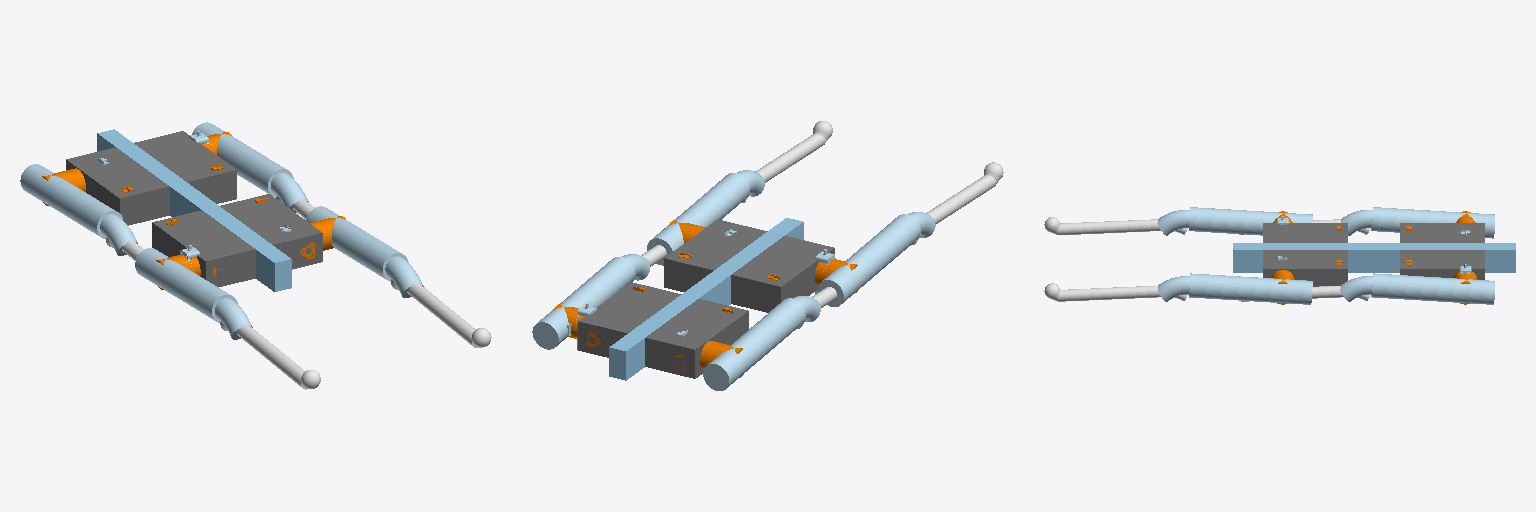
--- What the picture shows (computed from the rendered views, not written in the file) ---
Views: 3 orthographic renders of the robot side by side, from view 1: azimuth 30°, elevation 25°; view 2: azimuth 150°, elevation 25°; view 3: azimuth 270°, elevation 25°.
Model quadrupedCollision with 25 links and 24 joints (24 revolute), rooted at part_1, posed all joints at 0.
Visible links, largest first — view 1: part_1, femurmergecoll, femurmergecoll_2, femurmergecolr_2, femurmergecolr, tibiamergecolr_2, tibiamergecoll_2; view 2: part_1, femurmergecoll, femurmergecoll_2, femurmergecolr, femurmergecolr_2, tibiamergecolr_2, tibiamergecoll_2; view 3: part_1, femurmergecolr_2, femurmergecolr, femurmergecoll_2, femurmergecoll, tibiamergecolr_2, tibiamergecoll_2.
Link boxes in pixels (left/top/right/bottom): part_1: left=66, top=129, right=322, bottom=291; femurmergecoll: left=20, top=164, right=137, bottom=255; femurmergecoll_2: left=135, top=248, right=252, bottom=339; femurmergecolr_2: left=306, top=206, right=423, bottom=297; femurmergecolr: left=192, top=122, right=308, bottom=212; tibiamergecolr_2: left=391, top=279, right=491, bottom=347; tibiamergecoll_2: left=220, top=321, right=320, bottom=389; part_1: left=578, top=218, right=834, bottom=380; femurmergecoll: left=703, top=296, right=820, bottom=390; femurmergecoll_2: left=818, top=212, right=935, bottom=306; femurmergecolr: left=532, top=254, right=649, bottom=349; femurmergecolr_2: left=647, top=170, right=764, bottom=265; tibiamergecolr_2: left=742, top=121, right=832, bottom=202; tibiamergecoll_2: left=912, top=162, right=1003, bottom=244; part_1: left=1233, top=223, right=1515, bottom=286; femurmergecolr_2: left=1158, top=273, right=1312, bottom=304; femurmergecolr: left=1340, top=273, right=1494, bottom=304; femurmergecoll_2: left=1157, top=207, right=1312, bottom=235; femurmergecoll: left=1341, top=207, right=1494, bottom=238; tibiamergecolr_2: left=1044, top=283, right=1187, bottom=301; tibiamergecoll_2: left=1044, top=217, right=1187, bottom=234.
Size in the robot's own frame: 0.577 by 1.5 by 0.1263 metres.
Meshes: 15 distinct files referenced, 25 mesh visuals loaded (12 binary STL); not drawn: 8 (reference not matched to a file when rendering).

URDF robot description (quadrupedCollision):
<?xml version="1.0" ?>
<!-- Generated using onshape-to-robot -->
<!-- Onshape https://cad.onshape.com/documents/15c938082851fbd4bacdce98/w/82abc59e7a8e49fa89bdf240/e/b811f833887c1f15af931ea2 -->
<robot name="quadrupedCollision">
  <!-- Link part_1 -->
  <link name="part_1">
    <inertial>
      <origin xyz="5.94847e-18 0 0.000234013" rpy="0 0 0"/>
      <mass value="9.332"/>
      <inertia ixx="0.355577" ixy="-1.69608e-08" ixz="9.09713e-18" iyy="0.135954" iyz="5.82759e-19" izz="0.4868"/>
    </inertial>
    <!-- Part bodysectioncola -->
    <visual>
      <origin xyz="-0.181 -0.291 4.6659e-16" rpy="-7.63701e-16 3.38483e-16 -1.5708"/>
      <geometry>
        <mesh filename="package://assets/bodysectioncola.stl"/>
      </geometry>
      <material name="bodysectioncola_material">
        <color rgba="0.498039 0.498039 0.498039 1.0"/>
      </material>
    </visual>
    <collision>
      <origin xyz="-0.181 -0.291 4.6659e-16" rpy="-7.63701e-16 3.38483e-16 -1.5708"/>
      <geometry>
        <mesh filename="package://assets/bodysectioncola.stl"/>
      </geometry>
    </collision>
    <!-- Part bodysectioncollb -->
    <visual>
      <origin xyz="0.131 0.291 3.26128e-16" rpy="-3.07902e-48 -2.39492e-31 1.5708"/>
      <geometry>
        <mesh filename="package://assets/bodysectioncollb.stl"/>
      </geometry>
      <material name="bodysectioncollb_material">
        <color rgba="0.498039 0.498039 0.498039 1.0"/>
      </material>
    </visual>
    <collision>
      <origin xyz="0.131 0.291 3.26128e-16" rpy="-3.07902e-48 -2.39492e-31 1.5708"/>
      <geometry>
        <mesh filename="package://assets/bodysectioncollb.stl"/>
      </geometry>
    </collision>
    <!-- Part bodysectiona -->
    <visual>
      <origin xyz="0.181 0.291 4.26742e-16" rpy="-6.03533e-16 -5.41668e-33 1.5708"/>
      <geometry>
        <mesh filename="package://assets/bodysectiona.stl"/>
      </geometry>
      <material name="bodysectiona_material">
        <color rgba="0.972549 0.529412 0.00392157 1.0"/>
      </material>
    </visual>
    <collision>
      <origin xyz="0.181 0.291 4.26742e-16" rpy="-6.03533e-16 -5.41668e-33 1.5708"/>
      <geometry>
        <mesh filename="package://assets/bodysectiona.stl"/>
      </geometry>
    </collision>
    <!-- Part part_1 -->
    <visual>
      <origin xyz="0 0 0" rpy="0 -0 0"/>
      <geometry>
        <mesh filename="package://assets/part_1.stl"/>
      </geometry>
      <material name="part_1_material">
        <color rgba="0.615686 0.811765 0.929412 1.0"/>
      </material>
    </visual>
    <collision>
      <origin xyz="0 0 0" rpy="0 -0 0"/>
      <geometry>
        <mesh filename="package://assets/part_1.stl"/>
      </geometry>
    </collision>
    <!-- Part bodysectionb -->
    <visual>
      <origin xyz="-0.131 -0.291 4.54498e-16" rpy="-7.77005e-16 5.41668e-33 -1.5708"/>
      <geometry>
        <mesh filename="package://assets/bodysectionb.stl"/>
      </geometry>
      <material name="bodysectionb_material">
        <color rgba="0.972549 0.529412 0.00392157 1.0"/>
      </material>
    </visual>
    <collision>
      <origin xyz="-0.131 -0.291 4.54498e-16" rpy="-7.77005e-16 5.41668e-33 -1.5708"/>
      <geometry>
        <mesh filename="package://assets/bodysectionb.stl"/>
      </geometry>
    </collision>
    <!-- Part bodysectioncola_2 -->
    <visual>
      <origin xyz="0.181 0.291 3.26128e-16" rpy="-3.07902e-48 -2.39492e-31 1.5708"/>
      <geometry>
        <mesh filename="package://assets/bodysectioncola.stl"/>
      </geometry>
      <material name="bodysectioncola_2_material">
        <color rgba="0.498039 0.498039 0.498039 1.0"/>
      </material>
    </visual>
    <collision>
      <origin xyz="0.181 0.291 3.26128e-16" rpy="-3.07902e-48 -2.39492e-31 1.5708"/>
      <geometry>
        <mesh filename="package://assets/bodysectioncola.stl"/>
      </geometry>
    </collision>
    <!-- Part bodysectionb_2 -->
    <visual>
      <origin xyz="0.131 0.291 4.26742e-16" rpy="-6.03533e-16 -5.41668e-33 1.5708"/>
      <geometry>
        <mesh filename="package://assets/bodysectionb.stl"/>
      </geometry>
      <material name="bodysectionb_2_material">
        <color rgba="0.972549 0.529412 0.00392157 1.0"/>
      </material>
    </visual>
    <collision>
      <origin xyz="0.131 0.291 4.26742e-16" rpy="-6.03533e-16 -5.41668e-33 1.5708"/>
      <geometry>
        <mesh filename="package://assets/bodysectionb.stl"/>
      </geometry>
    </collision>
    <!-- Part bodysectioncollb_2 -->
    <visual>
      <origin xyz="-0.131 -0.291 4.6626e-16" rpy="-7.61586e-16 2.2746e-16 -1.5708"/>
      <geometry>
        <mesh filename="package://assets/bodysectioncollb.stl"/>
      </geometry>
      <material name="bodysectioncollb_2_material">
        <color rgba="0.498039 0.498039 0.498039 1.0"/>
      </material>
    </visual>
    <collision>
      <origin xyz="-0.131 -0.291 4.6626e-16" rpy="-7.61586e-16 2.2746e-16 -1.5708"/>
      <geometry>
        <mesh filename="package://assets/bodysectioncollb.stl"/>
      </geometry>
    </collision>
    <!-- Part bodysectiona_2 -->
    <visual>
      <origin xyz="-0.181 -0.291 4.54498e-16" rpy="-7.77005e-16 5.41668e-33 -1.5708"/>
      <geometry>
        <mesh filename="package://assets/bodysectiona.stl"/>
      </geometry>
      <material name="bodysectiona_2_material">
        <color rgba="0.972549 0.529412 0.00392157 1.0"/>
      </material>
    </visual>
    <collision>
      <origin xyz="-0.181 -0.291 4.54498e-16" rpy="-7.77005e-16 5.41668e-33 -1.5708"/>
      <geometry>
        <mesh filename="package://assets/bodysectiona.stl"/>
      </geometry>
    </collision>
  </link>
  <!-- Link coxamergel -->
  <link name="coxamergel">
    <inertial>
      <origin xyz="-0.0100851 -0.000391481 -0.0598052" rpy="0 0 0"/>
      <mass value="1.5"/>
      <inertia ixx="0.00120555" ixy="-1.25099e-05" ixz="-5.55819e-05" iyy="0.00233404" iyz="-2.2868e-06" izz="0.00180944"/>
    </inertial>
    <!-- Part coxamergel -->
    <visual>
      <origin xyz="0.05 -5.73847e-16 -0.0635" rpy="1.5708 1.5708 0"/>
      <geometry>
        <mesh filename="package://assets/coxamergel.stl"/>
      </geometry>
      <material name="coxamergel_material">
        <color rgba="0.768627 0.886275 0.952941 1.0"/>
      </material>
    </visual>
    <collision>
      <origin xyz="0.05 -5.73847e-16 -0.0635" rpy="1.5708 1.5708 0"/>
      <geometry>
        <mesh filename="package://assets/coxamergel.stl"/>
      </geometry>
    </collision>
  </link>
  <!-- Link femurmergel -->
  <link name="femurmergel">
    <inertial>
      <origin xyz="0.0751519 0.00032822 -0.0593829" rpy="0 0 0"/>
      <mass value="1.952"/>
      <inertia ixx="0.00139318" ixy="-0.000264556" ixz="0.000687157" iyy="0.0276116" iyz="2.92843e-06" izz="0.0271576"/>
    </inertial>
    <!-- Part femurmergel -->
    <visual>
      <origin xyz="-1.66533e-16 -2.70617e-16 0.005" rpy="-1.5708 -1.80753e-16 2.37235"/>
      <geometry>
        <mesh filename="package://assets/femurmergel.stl"/>
      </geometry>
      <material name="femurmergel_material">
        <color rgba="0.917647 0.917647 0.917647 1.0"/>
      </material>
    </visual>
    <collision>
      <origin xyz="-1.66533e-16 -2.70617e-16 0.005" rpy="-1.5708 -1.80753e-16 2.37235"/>
      <geometry>
        <mesh filename="package://assets/femurmergel.stl"/>
      </geometry>
    </collision>
  </link>
  <!-- Link tibiamerger -->
  <link name="tibiamerger">
    <inertial>
      <origin xyz="0.201195 0.00272963 -0.0159512" rpy="0 0 0"/>
      <mass value="0.22"/>
      <inertia ixx="5.51361e-05" ixy="-0.000152057" ixz="1.05475e-09" iyy="0.00533523" iyz="2.98345e-08" izz="0.00534053"/>
    </inertial>
    <!-- Part tibiamerger -->
    <visual>
      <origin xyz="-0.0160231 -0.370248 0.053" rpy="1.5708 4.16327e-14 -0.77729"/>
      <geometry>
        <mesh filename="package://assets/tibiamerger.stl"/>
      </geometry>
      <material name="tibiamerger_material">
        <color rgba="0.231373 0.380392 0.705882 1.0"/>
      </material>
    </visual>
    <collision>
      <origin xyz="-0.0160231 -0.370248 0.053" rpy="1.5708 4.16327e-14 -0.77729"/>
      <geometry>
        <mesh filename="package://assets/tibiamerger.stl"/>
      </geometry>
    </collision>
  </link>
  <!-- Joint from femurmergel to tibiamerger -->
  <joint name="FL_KneeFE" type="revolute">
    <origin xyz="0.36975 0.025 -0.08" rpy="3.14159 -3.71545e-17 0.115841"/>
    <parent link="femurmergel"/>
    <child link="tibiamerger"/>
    <axis xyz="0 0 1"/>
    <limit effort="10" velocity="10" lower="-0.450392" upper="2.72142"/>
  </joint>
  <!-- Joint from coxamergel to femurmergel -->
  <joint name="FL_HipFE" type="revolute">
    <origin xyz="0.055 -6.48425e-15 -0.0635" rpy="1.5708 -1.50329 -1.5708"/>
    <parent link="coxamergel"/>
    <child link="femurmergel"/>
    <axis xyz="0 0 1"/>
    <limit effort="10" velocity="10" lower="-0.456088" upper="3.7327"/>
  </joint>
  <!-- Joint from part_1 to coxamergel -->
  <joint name="FL_HipAA" type="revolute">
    <origin xyz="-0.131 0.2275 4.72203e-17" rpy="-1.5708 6.03533e-16 -3.14159"/>
    <parent link="part_1"/>
    <child link="coxamergel"/>
    <axis xyz="0 0 1"/>
    <limit effort="10" velocity="10" lower="-1.0472" upper="1.0472"/>
  </joint>
  <!-- Link coxamerger -->
  <link name="coxamerger">
    <inertial>
      <origin xyz="0.0100851 -0.000391481 -0.0598052" rpy="0 0 0"/>
      <mass value="1.5"/>
      <inertia ixx="0.00120555" ixy="1.25099e-05" ixz="5.55819e-05" iyy="0.00233404" iyz="-2.28685e-06" izz="0.00180944"/>
    </inertial>
    <!-- Part coxamerger -->
    <visual>
      <origin xyz="-0.05 -5.73847e-16 -0.0635" rpy="1.5708 1.5708 0"/>
      <geometry>
        <mesh filename="package://assets/coxamerger.stl"/>
      </geometry>
      <material name="coxamerger_material">
        <color rgba="0.768627 0.886275 0.952941 1.0"/>
      </material>
    </visual>
    <collision>
      <origin xyz="-0.05 -5.73847e-16 -0.0635" rpy="1.5708 1.5708 0"/>
      <geometry>
        <mesh filename="package://assets/coxamerger.stl"/>
      </geometry>
    </collision>
  </link>
  <!-- Link femurmerger -->
  <link name="femurmerger">
    <inertial>
      <origin xyz="0.0751519 -0.00032822 -0.0593829" rpy="0 0 0"/>
      <mass value="1.952"/>
      <inertia ixx="0.00139318" ixy="0.000264557" ixz="0.000687157" iyy="0.0276116" iyz="-2.92829e-06" izz="0.0271576"/>
    </inertial>
    <!-- Part femurmerger -->
    <visual>
      <origin xyz="-2.77556e-16 2.70617e-16 0.005" rpy="1.5708 -1.80753e-16 -2.37235"/>
      <geometry>
        <mesh filename="package://assets/femurmerger.stl"/>
      </geometry>
      <material name="femurmerger_material">
        <color rgba="0.917647 0.917647 0.917647 1.0"/>
      </material>
    </visual>
    <collision>
      <origin xyz="-2.77556e-16 2.70617e-16 0.005" rpy="1.5708 -1.80753e-16 -2.37235"/>
      <geometry>
        <mesh filename="package://assets/femurmerger.stl"/>
      </geometry>
    </collision>
  </link>
  <!-- Link tibiamerger_2 -->
  <link name="tibiamerger_2">
    <inertial>
      <origin xyz="0.201195 -0.00272963 -0.0160488" rpy="0 0 0"/>
      <mass value="0.22"/>
      <inertia ixx="5.51361e-05" ixy="0.000152057" ixz="-1.05475e-09" iyy="0.00533523" iyz="2.98345e-08" izz="0.00534053"/>
    </inertial>
    <!-- Part tibiamerger_2 -->
    <visual>
      <origin xyz="-0.0160231 0.370248 -0.085" rpy="-1.5708 -4.16482e-14 0.77729"/>
      <geometry>
        <mesh filename="package://assets/tibiamerger.stl"/>
      </geometry>
      <material name="tibiamerger_2_material">
        <color rgba="0.231373 0.380392 0.705882 1.0"/>
      </material>
    </visual>
    <collision>
      <origin xyz="-0.0160231 0.370248 -0.085" rpy="-1.5708 -4.16482e-14 0.77729"/>
      <geometry>
        <mesh filename="package://assets/tibiamerger.stl"/>
      </geometry>
    </collision>
  </link>
  <!-- Joint from femurmerger to tibiamerger_2 -->
  <joint name="FR_KneeFE" type="revolute">
    <origin xyz="0.36975 -0.025 -0.08" rpy="3.14159 -3.90028e-15 -0.115841"/>
    <parent link="femurmerger"/>
    <child link="tibiamerger_2"/>
    <axis xyz="0 0 1"/>
    <limit effort="10" velocity="10" lower="-2.72142" upper="0.450392"/>
  </joint>
  <!-- Joint from coxamerger to femurmerger -->
  <joint name="FR_HipFE" type="revolute">
    <origin xyz="-0.055 -6.53411e-15 -0.0635" rpy="-1.5708 -1.50329 -1.5708"/>
    <parent link="coxamerger"/>
    <child link="femurmerger"/>
    <axis xyz="0 0 1"/>
    <limit effort="10" velocity="10" lower="-3.7327" upper="0.456088"/>
  </joint>
  <!-- Joint from part_1 to coxamerger -->
  <joint name="FR_HipAA" type="revolute">
    <origin xyz="0.131 0.2275 2.8804e-17" rpy="-1.5708 -1.11228e-13 3.14159"/>
    <parent link="part_1"/>
    <child link="coxamerger"/>
    <axis xyz="0 0 1"/>
    <limit effort="10" velocity="10" lower="-1.0472" upper="1.0472"/>
  </joint>
  <!-- Link coxamerger_2 -->
  <link name="coxamerger_2">
    <inertial>
      <origin xyz="0.0100851 -0.000391481 -0.0598052" rpy="0 0 0"/>
      <mass value="1.5"/>
      <inertia ixx="0.00120555" ixy="1.25099e-05" ixz="5.55819e-05" iyy="0.00233404" iyz="-2.28685e-06" izz="0.00180944"/>
    </inertial>
    <!-- Part coxamerger_2 -->
    <visual>
      <origin xyz="-0.05 -5.73847e-16 -0.0635" rpy="1.5708 1.5708 0"/>
      <geometry>
        <mesh filename="package://assets/coxamerger.stl"/>
      </geometry>
      <material name="coxamerger_2_material">
        <color rgba="0.768627 0.886275 0.952941 1.0"/>
      </material>
    </visual>
    <collision>
      <origin xyz="-0.05 -5.73847e-16 -0.0635" rpy="1.5708 1.5708 0"/>
      <geometry>
        <mesh filename="package://assets/coxamerger.stl"/>
      </geometry>
    </collision>
  </link>
  <!-- Link femurmergel_2 -->
  <link name="femurmergel_2">
    <inertial>
      <origin xyz="0.0751519 0.00032822 -0.0593829" rpy="0 0 0"/>
      <mass value="1.952"/>
      <inertia ixx="0.00139318" ixy="-0.000264556" ixz="0.000687157" iyy="0.0276116" iyz="2.92843e-06" izz="0.0271576"/>
    </inertial>
    <!-- Part femurmergel_2 -->
    <visual>
      <origin xyz="-2.77556e-16 -2.74086e-16 0.005" rpy="-1.5708 -1.80753e-16 2.37235"/>
      <geometry>
        <mesh filename="package://assets/femurmergel.stl"/>
      </geometry>
      <material name="femurmergel_2_material">
        <color rgba="0.917647 0.917647 0.917647 1.0"/>
      </material>
    </visual>
    <collision>
      <origin xyz="-2.77556e-16 -2.74086e-16 0.005" rpy="-1.5708 -1.80753e-16 2.37235"/>
      <geometry>
        <mesh filename="package://assets/femurmergel.stl"/>
      </geometry>
    </collision>
  </link>
  <!-- Link tibiamerger_3 -->
  <link name="tibiamerger_3">
    <inertial>
      <origin xyz="0.201195 0.00272963 -0.0159512" rpy="0 0 0"/>
      <mass value="0.22"/>
      <inertia ixx="5.51361e-05" ixy="-0.000152057" ixz="1.05475e-09" iyy="0.00533523" iyz="2.98345e-08" izz="0.00534053"/>
    </inertial>
    <!-- Part tibiamerger_3 -->
    <visual>
      <origin xyz="-0.0160231 -0.370248 0.053" rpy="1.5708 4.16327e-14 -0.77729"/>
      <geometry>
        <mesh filename="package://assets/tibiamerger.stl"/>
      </geometry>
      <material name="tibiamerger_3_material">
        <color rgba="0.231373 0.380392 0.705882 1.0"/>
      </material>
    </visual>
    <collision>
      <origin xyz="-0.0160231 -0.370248 0.053" rpy="1.5708 4.16327e-14 -0.77729"/>
      <geometry>
        <mesh filename="package://assets/tibiamerger.stl"/>
      </geometry>
    </collision>
  </link>
  <!-- Joint from femurmergel_2 to tibiamerger_3 -->
  <joint name="BL_KneeFE" type="revolute">
    <origin xyz="0.36975 0.025 -0.08" rpy="3.14159 8.90167e-15 0.115841"/>
    <parent link="femurmergel_2"/>
    <child link="tibiamerger_3"/>
    <axis xyz="0 0 1"/>
    <limit effort="10" velocity="10" lower="-0.450392" upper="2.72142"/>
  </joint>
  <!-- Joint from coxamerger_2 to femurmergel_2 -->
  <joint name="BL_HipFE" type="revolute">
    <origin xyz="-0.055 -6.54025e-15 -0.0635" rpy="-1.5708 1.50329 -1.5708"/>
    <parent link="coxamerger_2"/>
    <child link="femurmergel_2"/>
    <axis xyz="0 0 1"/>
    <limit effort="10" velocity="10" lower="-0.456088" upper="3.7327"/>
  </joint>
  <!-- Joint from part_1 to coxamerger_2 -->
  <joint name="BL_HipAA" type="revolute">
    <origin xyz="-0.131 -0.2275 4.50143e-17" rpy="-1.5708 -1.09497e-13 -8.32667e-17"/>
    <parent link="part_1"/>
    <child link="coxamerger_2"/>
    <axis xyz="0 0 1"/>
    <limit effort="10" velocity="10" lower="-1.0472" upper="1.0472"/>
  </joint>
  <!-- Link coxamergel_2 -->
  <link name="coxamergel_2">
    <inertial>
      <origin xyz="-0.0100851 -0.000391481 -0.0598052" rpy="0 0 0"/>
      <mass value="1.5"/>
      <inertia ixx="0.00120555" ixy="-1.25099e-05" ixz="-5.55819e-05" iyy="0.00233404" iyz="-2.2868e-06" izz="0.00180944"/>
    </inertial>
    <!-- Part coxamergel_2 -->
    <visual>
      <origin xyz="0.05 -5.73847e-16 -0.0635" rpy="1.5708 1.5708 0"/>
      <geometry>
        <mesh filename="package://assets/coxamergel.stl"/>
      </geometry>
      <material name="coxamergel_2_material">
        <color rgba="0.768627 0.886275 0.952941 1.0"/>
      </material>
    </visual>
    <collision>
      <origin xyz="0.05 -5.73847e-16 -0.0635" rpy="1.5708 1.5708 0"/>
      <geometry>
        <mesh filename="package://assets/coxamergel.stl"/>
      </geometry>
    </collision>
  </link>
  <!-- Link femurmerger_2 -->
  <link name="femurmerger_2">
    <inertial>
      <origin xyz="0.0751519 -0.00032822 -0.0593829" rpy="0 0 0"/>
      <mass value="1.952"/>
      <inertia ixx="0.00139318" ixy="0.000264557" ixz="0.000687157" iyy="0.0276116" iyz="-2.92829e-06" izz="0.0271576"/>
    </inertial>
    <!-- Part femurmerger_2 -->
    <visual>
      <origin xyz="-2.77556e-16 2.74086e-16 0.005" rpy="1.5708 -1.80753e-16 -2.37235"/>
      <geometry>
        <mesh filename="package://assets/femurmerger.stl"/>
      </geometry>
      <material name="femurmerger_2_material">
        <color rgba="0.917647 0.917647 0.917647 1.0"/>
      </material>
    </visual>
    <collision>
      <origin xyz="-2.77556e-16 2.74086e-16 0.005" rpy="1.5708 -1.80753e-16 -2.37235"/>
      <geometry>
        <mesh filename="package://assets/femurmerger.stl"/>
      </geometry>
    </collision>
  </link>
  <!-- Link tibiamerger_4 -->
  <link name="tibiamerger_4">
    <inertial>
      <origin xyz="0.201195 -0.00272963 -0.0160488" rpy="0 0 0"/>
      <mass value="0.22"/>
      <inertia ixx="5.51361e-05" ixy="0.000152057" ixz="-1.05475e-09" iyy="0.00533523" iyz="2.98345e-08" izz="0.00534053"/>
    </inertial>
    <!-- Part tibiamerger_4 -->
    <visual>
      <origin xyz="-0.0160231 0.370248 -0.085" rpy="-1.5708 -4.16482e-14 0.77729"/>
      <geometry>
        <mesh filename="package://assets/tibiamerger.stl"/>
      </geometry>
      <material name="tibiamerger_4_material">
        <color rgba="0.231373 0.380392 0.705882 1.0"/>
      </material>
    </visual>
    <collision>
      <origin xyz="-0.0160231 0.370248 -0.085" rpy="-1.5708 -4.16482e-14 0.77729"/>
      <geometry>
        <mesh filename="package://assets/tibiamerger.stl"/>
      </geometry>
    </collision>
  </link>
  <!-- Joint from femurmerger_2 to tibiamerger_4 -->
  <joint name="BR_KneeFE" type="revolute">
    <origin xyz="0.36975 -0.025 -0.08" rpy="3.14159 -3.74759e-15 -0.115841"/>
    <parent link="femurmerger_2"/>
    <child link="tibiamerger_4"/>
    <axis xyz="0 0 1"/>
    <limit effort="10" velocity="10" lower="-2.72142" upper="0.450392"/>
  </joint>
  <!-- Joint from coxamergel_2 to femurmerger_2 -->
  <joint name="BR_HipFE" type="revolute">
    <origin xyz="0.055 -6.53411e-15 -0.0635" rpy="1.5708 1.50329 -1.5708"/>
    <parent link="coxamergel_2"/>
    <child link="femurmerger_2"/>
    <axis xyz="0 0 1"/>
    <limit effort="10" velocity="10" lower="-3.7327" upper="0.456088"/>
  </joint>
  <!-- Joint from part_1 to coxamergel_2 -->
  <joint name="BR_HipAA" type="revolute">
    <origin xyz="0.131 -0.2275 2.94394e-17" rpy="-1.5708 7.77005e-16 8.32667e-17"/>
    <parent link="part_1"/>
    <child link="coxamergel_2"/>
    <axis xyz="0 0 1"/>
    <limit effort="10" velocity="10" lower="-1.0472" upper="1.0472"/>
  </joint>
  <!-- Link coxamergecolr -->
  <link name="coxamergecolr">
    <inertial>
      <origin xyz="0 0 0" rpy="0 0 0"/>
      <mass value="1e-09"/>
      <inertia ixx="1e-09" ixy="0" ixz="0" iyy="1e-09" iyz="0" izz="1e-09"/>
    </inertial>
    <!-- Part coxamergecolr -->
    <visual>
      <origin xyz="-0.05 -5.73847e-16 -0.0635" rpy="1.5708 1.5708 0"/>
      <geometry>
        <mesh filename="package://assets/coxamergecolr.stl"/>
      </geometry>
      <material name="coxamergecolr_material">
        <color rgba="0.972549 0.529412 0.00392157 1.0"/>
      </material>
    </visual>
    <collision>
      <origin xyz="-0.05 -5.73847e-16 -0.0635" rpy="1.5708 1.5708 0"/>
      <geometry>
        <mesh filename="package://assets/coxamergecolr.stl"/>
      </geometry>
    </collision>
  </link>
  <!-- Link femurmergecoll -->
  <link name="femurmergecoll">
    <inertial>
      <origin xyz="0 0 0" rpy="0 0 0"/>
      <mass value="1e-09"/>
      <inertia ixx="1e-09" ixy="0" ixz="0" iyy="1e-09" iyz="0" izz="1e-09"/>
    </inertial>
    <!-- Part femurmergecoll -->
    <visual>
      <origin xyz="-3.33067e-16 -2.52261e-16 0.005" rpy="-1.5708 -1.80753e-16 2.30484"/>
      <geometry>
        <mesh filename="package://assets/femurmergecoll.stl"/>
      </geometry>
      <material name="femurmergecoll_material">
        <color rgba="0.768627 0.886275 0.952941 1.0"/>
      </material>
    </visual>
    <collision>
      <origin xyz="-3.33067e-16 -2.52261e-16 0.005" rpy="-1.5708 -1.80753e-16 2.30484"/>
      <geometry>
        <mesh filename="package://assets/femurmergecoll.stl"/>
      </geometry>
    </collision>
  </link>
  <!-- Link tibiamergecoll -->
  <link name="tibiamergecoll">
    <inertial>
      <origin xyz="0 0 0" rpy="0 0 0"/>
      <mass value="1e-09"/>
      <inertia ixx="1e-09" ixy="0" ixz="0" iyy="1e-09" iyz="0" izz="1e-09"/>
    </inertial>
    <!-- Part tibiamergecoll -->
    <visual>
      <origin xyz="-0.0587099 0.365914 0.053" rpy="-1.5708 4.16327e-14 0.893131"/>
      <geometry>
        <mesh filename="package://assets/tibiamergecoll.stl"/>
      </geometry>
      <material name="tibiamergecoll_material">
        <color rgba="0.917647 0.917647 0.917647 1.0"/>
      </material>
    </visual>
    <collision>
      <origin xyz="-0.0587099 0.365914 0.053" rpy="-1.5708 4.16327e-14 0.893131"/>
      <geometry>
        <mesh filename="package://assets/tibiamergecoll.stl"/>
      </geometry>
    </collision>
  </link>
  <!-- Joint from femurmergecoll to tibiamergecoll -->
  <joint name="FL_KneeFE_Col" type="revolute">
    <origin xyz="0.370594 1.67728e-11 -0.048" rpy="6.85936e-14 -8.18334e-15 -0.0675105"/>
    <parent link="femurmergecoll"/>
    <child link="tibiamergecoll"/>
    <axis xyz="0 0 1"/>
    <limit effort="10" velocity="10" lower="-3.141592653589793" upper="3.141592653589793"/>
  </joint>
  <!-- Joint from coxamergecolr to femurmergecoll -->
  <joint name="FL_HipFE_Col" type="revolute">
    <origin xyz="-0.055 -6.47867e-15 -0.0635" rpy="-3.14159 -1.5708 0"/>
    <parent link="coxamergecolr"/>
    <child link="femurmergecoll"/>
    <axis xyz="0 0 1"/>
    <limit effort="10" velocity="10" lower="-3.141592653589793" upper="3.141592653589793"/>
  </joint>
  <!-- Joint from part_1 to coxamergecolr -->
  <joint name="FL_HipAA_Col" type="revolute">
    <origin xyz="-0.131 0.2275 1.03312e-16" rpy="1.5708 -2.77556e-17 -3.60095e-16"/>
    <parent link="part_1"/>
    <child link="coxamergecolr"/>
    <axis xyz="0 0 1"/>
    <limit effort="10" velocity="10" lower="-1.0472" upper="1.0472"/>
  </joint>
  <!-- Link coxamergecolr_2 -->
  <link name="coxamergecolr_2">
    <inertial>
      <origin xyz="0 0 0" rpy="0 0 0"/>
      <mass value="1e-09"/>
      <inertia ixx="1e-09" ixy="0" ixz="0" iyy="1e-09" iyz="0" izz="1e-09"/>
    </inertial>
    <!-- Part coxamergecolr_2 -->
    <visual>
      <origin xyz="-0.05 -5.73847e-16 -0.0635" rpy="1.5708 1.5708 0"/>
      <geometry>
        <mesh filename="package://assets/coxamergecolr.stl"/>
      </geometry>
      <material name="coxamergecolr_2_material">
        <color rgba="0.972549 0.529412 0.00392157 1.0"/>
      </material>
    </visual>
    <collision>
      <origin xyz="-0.05 -5.73847e-16 -0.0635" rpy="1.5708 1.5708 0"/>
      <geometry>
        <mesh filename="package://assets/coxamergecolr.stl"/>
      </geometry>
    </collision>
  </link>
  <!-- Link femurmergecolr -->
  <link name="femurmergecolr">
    <inertial>
      <origin xyz="0 0 0" rpy="0 0 0"/>
      <mass value="1e-09"/>
      <inertia ixx="1e-09" ixy="0" ixz="0" iyy="1e-09" iyz="0" izz="1e-09"/>
    </inertial>
    <!-- Part femurmergecolr -->
    <visual>
      <origin xyz="2.77556e-16 -2.52261e-16 0.005" rpy="1.5708 -1.80753e-16 0.836756"/>
      <geometry>
        <mesh filename="package://assets/femurmergecolr.stl"/>
      </geometry>
      <material name="femurmergecolr_material">
        <color rgba="0.768627 0.886275 0.952941 1.0"/>
      </material>
    </visual>
    <collision>
      <origin xyz="2.77556e-16 -2.52261e-16 0.005" rpy="1.5708 -1.80753e-16 0.836756"/>
      <geometry>
        <mesh filename="package://assets/femurmergecolr.stl"/>
      </geometry>
    </collision>
  </link>
  <!-- Link tibiamergecolr -->
  <link name="tibiamergecolr">
    <inertial>
      <origin xyz="0 0 0" rpy="0 0 0"/>
      <mass value="1e-09"/>
      <inertia ixx="1e-09" ixy="0" ixz="0" iyy="1e-09" iyz="0" izz="1e-09"/>
    </inertial>
    <!-- Part tibiamergecolr -->
    <visual>
      <origin xyz="0.0587099 0.365914 0.053" rpy="1.5708 4.16327e-14 2.24846"/>
      <geometry>
        <mesh filename="package://assets/tibiamergecolr.stl"/>
      </geometry>
      <material name="tibiamergecolr_material">
        <color rgba="0.917647 0.917647 0.917647 1.0"/>
      </material>
    </visual>
    <collision>
      <origin xyz="0.0587099 0.365914 0.053" rpy="1.5708 4.16327e-14 2.24846"/>
      <geometry>
        <mesh filename="package://assets/tibiamergecolr.stl"/>
      </geometry>
    </collision>
  </link>
  <!-- Joint from femurmergecolr to tibiamergecolr -->
  <joint name="FR_KneeFE_Col" type="revolute">
    <origin xyz="-0.370594 1.67719e-11 -0.048" rpy="6.91529e-14 1.00476e-14 0.0675105"/>
    <parent link="femurmergecolr"/>
    <child link="tibiamergecolr"/>
    <axis xyz="0 0 1"/>
    <limit effort="10" velocity="10" lower="-3.141592653589793" upper="3.141592653589793"/>
  </joint>
  <!-- Joint from coxamergecolr_2 to femurmergecolr -->
  <joint name="FR_HipFE_Col" type="revolute">
    <origin xyz="-0.055 -6.53413e-15 -0.0635" rpy="-1.14895e-13 1.5708 0"/>
    <parent link="coxamergecolr_2"/>
    <child link="femurmergecolr"/>
    <axis xyz="0 0 1"/>
    <limit effort="10" velocity="10" lower="-3.141592653589793" upper="3.141592653589793"/>
  </joint>
  <!-- Joint from part_1 to coxamergecolr_2 -->
  <joint name="FR_HipAA_Col" type="revolute">
    <origin xyz="0.131 0.2275 -4.15338e-17" rpy="-1.5708 7.25387e-16 3.14159"/>
    <parent link="part_1"/>
    <child link="coxamergecolr_2"/>
    <axis xyz="0 0 1"/>
    <limit effort="10" velocity="10" lower="-1.0472" upper="1.0472"/>
  </joint>
  <!-- Link coxamergecolr_3 -->
  <link name="coxamergecolr_3">
    <inertial>
      <origin xyz="0 0 0" rpy="0 0 0"/>
      <mass value="1e-09"/>
      <inertia ixx="1e-09" ixy="0" ixz="0" iyy="1e-09" iyz="0" izz="1e-09"/>
    </inertial>
    <!-- Part coxamergecolr_3 -->
    <visual>
      <origin xyz="-0.05 -5.73847e-16 -0.0635" rpy="1.5708 1.5708 0"/>
      <geometry>
        <mesh filename="package://assets/coxamergecolr.stl"/>
      </geometry>
      <material name="coxamergecolr_3_material">
        <color rgba="0.972549 0.529412 0.00392157 1.0"/>
      </material>
    </visual>
    <collision>
      <origin xyz="-0.05 -5.73847e-16 -0.0635" rpy="1.5708 1.5708 0"/>
      <geometry>
        <mesh filename="package://assets/coxamergecolr.stl"/>
      </geometry>
    </collision>
  </link>
  <!-- Link femurmergecolr_2 -->
  <link name="femurmergecolr_2">
    <inertial>
      <origin xyz="0 0 0" rpy="0 0 0"/>
      <mass value="1e-09"/>
      <inertia ixx="1e-09" ixy="0" ixz="0" iyy="1e-09" iyz="0" izz="1e-09"/>
    </inertial>
    <!-- Part femurmergecolr_2 -->
    <visual>
      <origin xyz="2.22045e-16 -2.52261e-16 0.005" rpy="1.5708 -1.80753e-16 0.836756"/>
      <geometry>
        <mesh filename="package://assets/femurmergecolr.stl"/>
      </geometry>
      <material name="femurmergecolr_2_material">
        <color rgba="0.768627 0.886275 0.952941 1.0"/>
      </material>
    </visual>
    <collision>
      <origin xyz="2.22045e-16 -2.52261e-16 0.005" rpy="1.5708 -1.80753e-16 0.836756"/>
      <geometry>
        <mesh filename="package://assets/femurmergecolr.stl"/>
      </geometry>
    </collision>
  </link>
  <!-- Link tibiamergecolr_2 -->
  <link name="tibiamergecolr_2">
    <inertial>
      <origin xyz="0 0 0" rpy="0 0 0"/>
      <mass value="1e-09"/>
      <inertia ixx="1e-09" ixy="0" ixz="0" iyy="1e-09" iyz="0" izz="1e-09"/>
    </inertial>
    <!-- Part tibiamergecolr_2 -->
    <visual>
      <origin xyz="0.0587099 0.365914 0.053" rpy="1.5708 4.16327e-14 2.24846"/>
      <geometry>
        <mesh filename="package://assets/tibiamergecolr.stl"/>
      </geometry>
      <material name="tibiamergecolr_2_material">
        <color rgba="0.917647 0.917647 0.917647 1.0"/>
      </material>
    </visual>
    <collision>
      <origin xyz="0.0587099 0.365914 0.053" rpy="1.5708 4.16327e-14 2.24846"/>
      <geometry>
        <mesh filename="package://assets/tibiamergecolr.stl"/>
      </geometry>
    </collision>
  </link>
  <!-- Joint from femurmergecolr_2 to tibiamergecolr_2 -->
  <joint name="BR_KneeFE_Col" type="revolute">
    <origin xyz="-0.370594 1.6773e-11 -0.048" rpy="6.91003e-14 1.11382e-14 0.0675105"/>
    <parent link="femurmergecolr_2"/>
    <child link="tibiamergecolr_2"/>
    <axis xyz="0 0 1"/>
    <limit effort="10" velocity="10" lower="-3.141592653589793" upper="3.141592653589793"/>
  </joint>
  <!-- Joint from coxamergecolr_3 to femurmergecolr_2 -->
  <joint name="BR_HipFE_Col" type="revolute">
    <origin xyz="-0.055 -6.55514e-15 -0.0635" rpy="-3.14159 -1.5708 0"/>
    <parent link="coxamergecolr_3"/>
    <child link="femurmergecolr_2"/>
    <axis xyz="0 0 1"/>
    <limit effort="10" velocity="10" lower="-3.141592653589793" upper="3.141592653589793"/>
  </joint>
  <!-- Joint from part_1 to coxamergecolr_3 -->
  <joint name="BR_HipAA_Col" type="revolute">
    <origin xyz="0.131 -0.2275 5.97437e-17" rpy="1.5708 -6.90905e-16 3.14159"/>
    <parent link="part_1"/>
    <child link="coxamergecolr_3"/>
    <axis xyz="0 0 1"/>
    <limit effort="10" velocity="10" lower="-1.0472" upper="1.0472"/>
  </joint>
  <!-- Link coxamergecolr_4 -->
  <link name="coxamergecolr_4">
    <inertial>
      <origin xyz="0 0 0" rpy="0 0 0"/>
      <mass value="1e-09"/>
      <inertia ixx="1e-09" ixy="0" ixz="0" iyy="1e-09" iyz="0" izz="1e-09"/>
    </inertial>
    <!-- Part coxamergecolr_4 -->
    <visual>
      <origin xyz="-0.05 -5.73847e-16 -0.0635" rpy="1.5708 1.5708 0"/>
      <geometry>
        <mesh filename="package://assets/coxamergecolr.stl"/>
      </geometry>
      <material name="coxamergecolr_4_material">
        <color rgba="0.972549 0.529412 0.00392157 1.0"/>
      </material>
    </visual>
    <collision>
      <origin xyz="-0.05 -5.73847e-16 -0.0635" rpy="1.5708 1.5708 0"/>
      <geometry>
        <mesh filename="package://assets/coxamergecolr.stl"/>
      </geometry>
    </collision>
  </link>
  <!-- Link femurmergecoll_2 -->
  <link name="femurmergecoll_2">
    <inertial>
      <origin xyz="0 0 0" rpy="0 0 0"/>
      <mass value="1e-09"/>
      <inertia ixx="1e-09" ixy="0" ixz="0" iyy="1e-09" iyz="0" izz="1e-09"/>
    </inertial>
    <!-- Part femurmergecoll_2 -->
    <visual>
      <origin xyz="-2.77556e-16 -2.52261e-16 0.005" rpy="-1.5708 -1.80753e-16 2.30484"/>
      <geometry>
        <mesh filename="package://assets/femurmergecoll.stl"/>
      </geometry>
      <material name="femurmergecoll_2_material">
        <color rgba="0.768627 0.886275 0.952941 1.0"/>
      </material>
    </visual>
    <collision>
      <origin xyz="-2.77556e-16 -2.52261e-16 0.005" rpy="-1.5708 -1.80753e-16 2.30484"/>
      <geometry>
        <mesh filename="package://assets/femurmergecoll.stl"/>
      </geometry>
    </collision>
  </link>
  <!-- Link tibiamergecoll_2 -->
  <link name="tibiamergecoll_2">
    <inertial>
      <origin xyz="0 0 0" rpy="0 0 0"/>
      <mass value="1e-09"/>
      <inertia ixx="1e-09" ixy="0" ixz="0" iyy="1e-09" iyz="0" izz="1e-09"/>
    </inertial>
    <!-- Part tibiamergecoll_2 -->
    <visual>
      <origin xyz="-0.0587099 0.365914 0.053" rpy="-1.5708 4.16327e-14 0.893131"/>
      <geometry>
        <mesh filename="package://assets/tibiamergecoll.stl"/>
      </geometry>
      <material name="tibiamergecoll_2_material">
        <color rgba="0.917647 0.917647 0.917647 1.0"/>
      </material>
    </visual>
    <collision>
      <origin xyz="-0.0587099 0.365914 0.053" rpy="-1.5708 4.16327e-14 0.893131"/>
      <geometry>
        <mesh filename="package://assets/tibiamergecoll.stl"/>
      </geometry>
    </collision>
  </link>
  <!-- Joint from femurmergecoll_2 to tibiamergecoll_2 -->
  <joint name="BL_KneeFE_Col" type="revolute">
    <origin xyz="0.370594 1.67706e-11 -0.048" rpy="7.09039e-14 -1.04068e-14 -0.0675105"/>
    <parent link="femurmergecoll_2"/>
    <child link="tibiamergecoll_2"/>
    <axis xyz="0 0 1"/>
    <limit effort="10" velocity="10" lower="-3.141592653589793" upper="3.141592653589793"/>
  </joint>
  <!-- Joint from coxamergecolr_4 to femurmergecoll_2 -->
  <joint name="BL_HipFE_Col" type="revolute">
    <origin xyz="-0.055 -6.58792e-15 -0.0635" rpy="-1.14911e-13 1.5708 0"/>
    <parent link="coxamergecolr_4"/>
    <child link="femurmergecoll_2"/>
    <axis xyz="0 0 1"/>
    <limit effort="10" velocity="10" lower="-3.141592653589793" upper="3.141592653589793"/>
  </joint>
  <!-- Joint from part_1 to coxamergecolr_4 -->
  <joint name="BL_HipAA_Col" type="revolute">
    <origin xyz="-0.131 -0.2275 4.78859e-17" rpy="-1.5708 7.25114e-16 -8.44844e-17"/>
    <parent link="part_1"/>
    <child link="coxamergecolr_4"/>
    <axis xyz="0 0 1"/>
    <limit effort="10" velocity="10" lower="-1.0472" upper="1.0472"/>
  </joint>
</robot>
